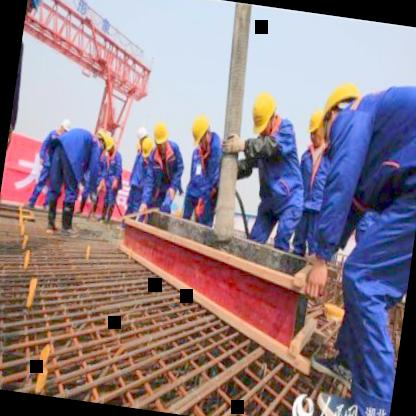helmet: (301, 90, 337, 160), (322, 78, 362, 132), (247, 84, 281, 141), (186, 107, 214, 152), (149, 116, 176, 154), (138, 136, 157, 163), (55, 116, 74, 142), (93, 128, 109, 156), (24, 0, 45, 19), (132, 124, 148, 145), (104, 135, 118, 158)
